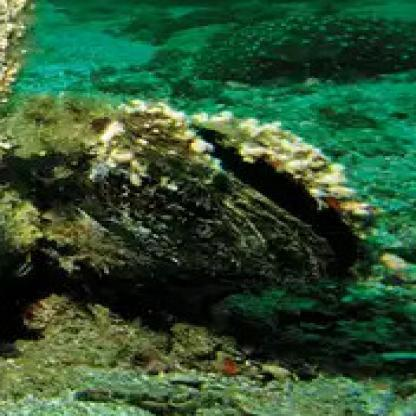Oyster- Indeterminate: (14, 261, 35, 278)
Oyster-Closed: (0, 184, 42, 254)
Oyster-Open: (0, 97, 372, 300)
